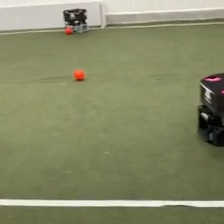ball: (72, 68, 86, 81), (64, 24, 73, 34)
goal: (1, 1, 107, 32)
robot: (195, 71, 224, 147), (62, 6, 90, 33)
